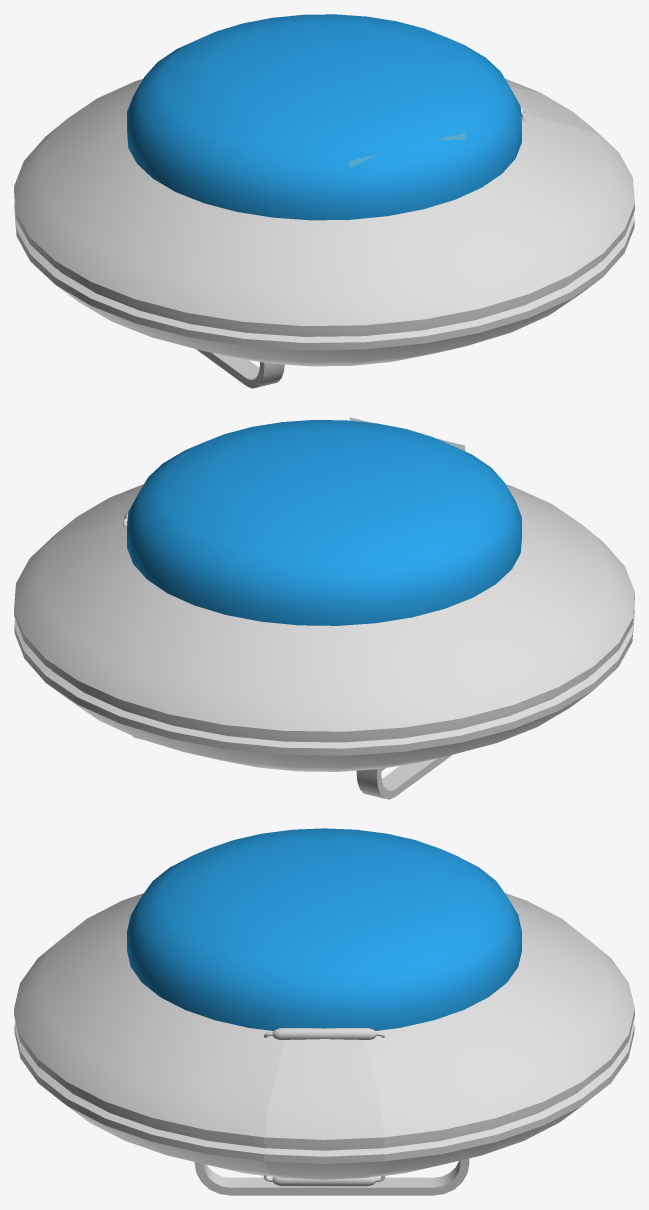
The model's file is космолет.fbx.
3 renders of one model, top to bottom at view 1: azimuth 30°, elevation 25°; view 2: azimuth 150°, elevation 25°; view 3: azimuth 270°, elevation 25°, orthographic.
Parts seen in each view (by area): view 1: Корпус, Дверь верх; view 2: Корпус, Дверь верх; view 3: Корпус, Дверь верх, Дверь низ.
Boxes of the visible parts, x1,y1,x2,y2 form: Корпус: (14,14,634,388); Дверь верх: (510,87,617,151); Корпус: (14,420,634,799); Дверь верх: (31,493,138,556); Корпус: (14,828,634,1195); Дверь верх: (264,1028,384,1146); Дверь низ: (264,1144,384,1186).
Bounding box in the file's own units: 701 × 321 × 701.
